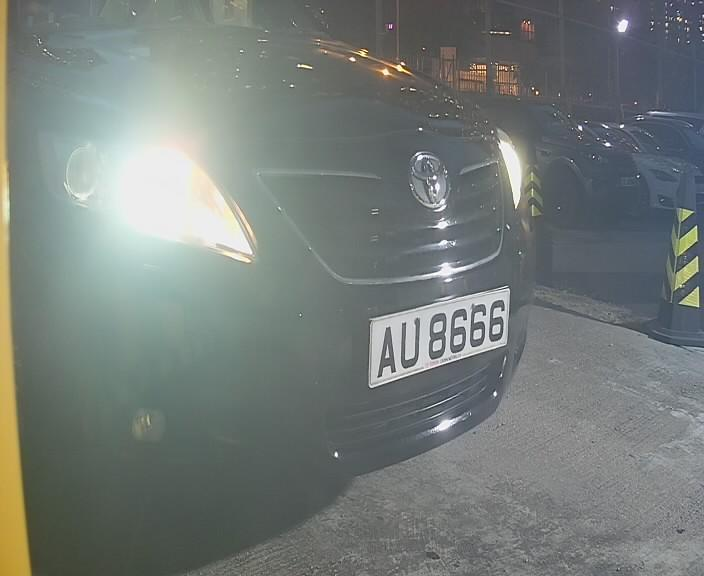privatecar: (29, 11, 554, 520)
